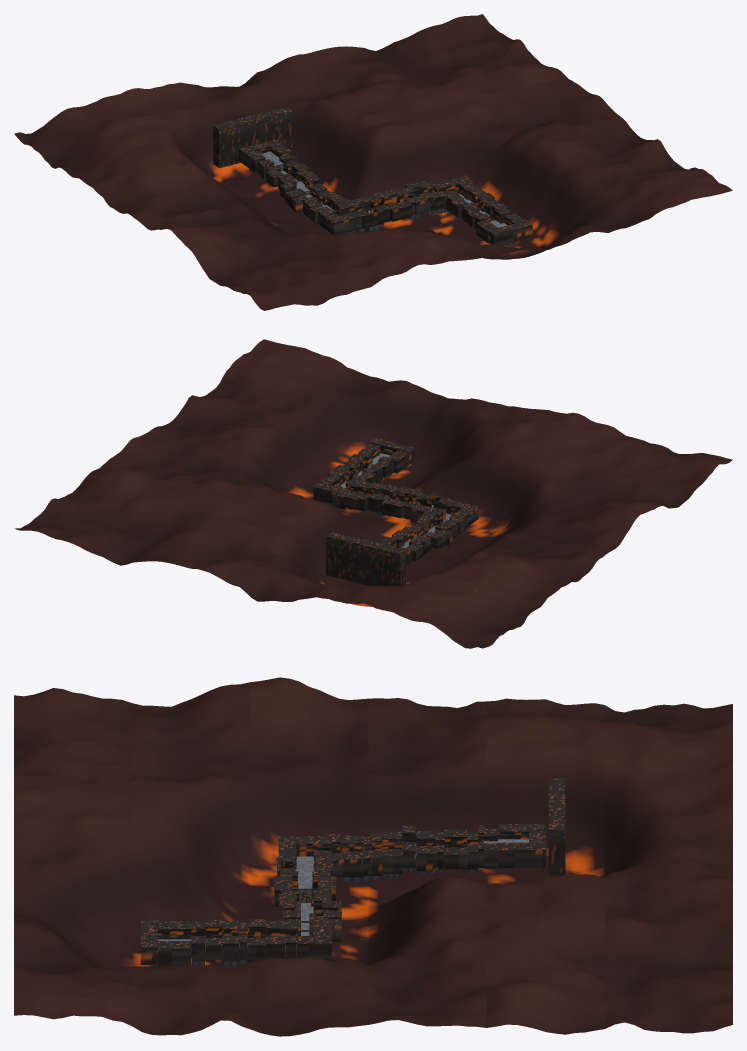
The model's file is slag_rivers_terrain.glb.
The picture shows the model from 3 angles, top to bottom: view 1: azimuth 30°, elevation 25°; view 2: azimuth 150°, elevation 25°; view 3: azimuth 270°, elevation 25°; orthographic projection. The views are drawn at different scales.
Visible parts, largest first — view 1: backdrop_5, backdrop_3, backdrop_4, backdrop_0, backdrop_1, backdrop_2, terrain_J, terrain_D, terrain_G, terrain_H, terrain_A, terrain_I (+4 smaller); view 2: backdrop_0, backdrop_1, backdrop_5, backdrop_4, backdrop_2, backdrop_3, terrain_J, terrain_D, terrain_G, terrain_H, terrain_E, terrain_A (+4 smaller); view 3: backdrop_5, backdrop_0, backdrop_4, backdrop_1, backdrop_3, backdrop_2, terrain_J, terrain_H, terrain_D, terrain_I, terrain_G, terrain_C (+4 smaller).
Part boxes in pixels (x1,y1,x2,y2): backdrop_5: [14, 14, 527, 168]; backdrop_3: [100, 79, 609, 228]; backdrop_4: [59, 49, 567, 198]; backdrop_0: [225, 167, 732, 310]; backdrop_1: [182, 139, 687, 286]; backdrop_2: [141, 107, 649, 241]; terrain_J: [213, 107, 293, 172]; terrain_D: [398, 176, 474, 219]; terrain_G: [304, 193, 354, 234]; terrain_H: [279, 171, 335, 212]; terrain_A: [476, 213, 532, 246]; terrain_I: [258, 154, 310, 189]; backdrop_0: [223, 339, 732, 495]; backdrop_1: [182, 377, 691, 521]; backdrop_5: [14, 498, 526, 648]; backdrop_4: [59, 468, 567, 617]; backdrop_2: [141, 409, 650, 557]; backdrop_3: [100, 436, 609, 584]; terrain_J: [326, 532, 405, 585]; terrain_D: [313, 478, 396, 516]; terrain_G: [416, 501, 478, 538]; terrain_H: [392, 520, 452, 554]; terrain_E: [379, 486, 427, 523]; terrain_A: [358, 438, 414, 474]; backdrop_5: [605, 703, 732, 1033]; backdrop_0: [14, 688, 132, 1025]; backdrop_4: [486, 698, 604, 1034]; backdrop_1: [132, 682, 250, 1035]; backdrop_3: [368, 698, 486, 1027]; backdrop_2: [250, 677, 368, 1036]; terrain_J: [498, 778, 565, 876]; terrain_H: [363, 825, 435, 880]; terrain_D: [278, 894, 341, 960]; terrain_I: [436, 825, 497, 872]; terrain_G: [278, 834, 362, 882]; terrain_C: [239, 919, 296, 964].
Size of the model in its own units: 553 by 64.69 by 511.
